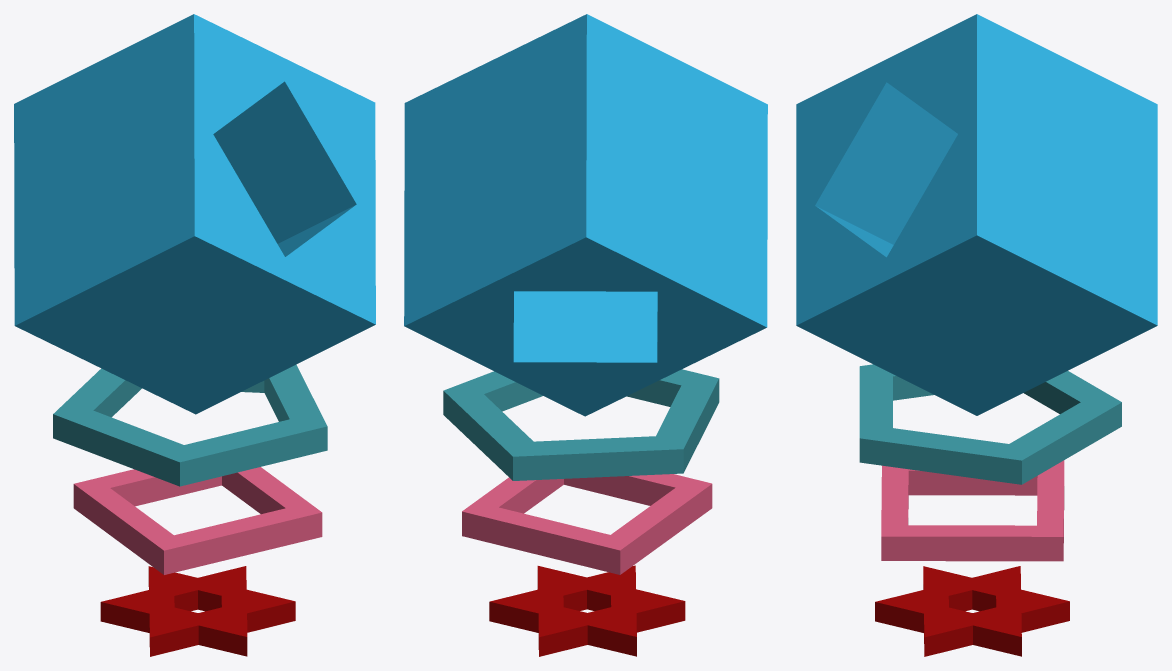
The model's file is gym.glb.
3 views of the same model, side by side, from view 1: azimuth 30°, elevation 25°; view 2: azimuth 150°, elevation 25°; view 3: azimuth 270°, elevation 25° (orthographic).
Parts seen in each view (by area): view 1: Cube, Circle, Aro2, Circle.001, Circle.002; view 2: Cube, Circle, Aro2, Circle.001, Circle.002; view 3: Cube, Circle, Aro2, Circle.001, Circle.002.
Part boxes in pixels (x1=…): Cube: x1=14, y1=14, x2=375, y2=414; Circle: x1=53, y1=364, x2=327, y2=486; Aro2: x1=73, y1=467, x2=322, y2=574; Circle.001: x1=100, y1=566, x2=247, y2=656; Circle.002: x1=148, y1=566, x2=295, y2=656; Cube: x1=404, y1=14, x2=767, y2=416; Circle: x1=443, y1=369, x2=719, y2=480; Aro2: x1=462, y1=474, x2=712, y2=574; Circle.001: x1=489, y1=565, x2=636, y2=656; Circle.002: x1=537, y1=566, x2=685, y2=656; Cube: x1=796, y1=14, x2=1157, y2=415; Circle: x1=859, y1=364, x2=1121, y2=484; Aro2: x1=881, y1=460, x2=1064, y2=561; Circle.001: x1=875, y1=566, x2=1021, y2=656; Circle.002: x1=923, y1=566, x2=1069, y2=656.
Bounding box in the file's own units: 2.35 × 3.78 × 2.04.
